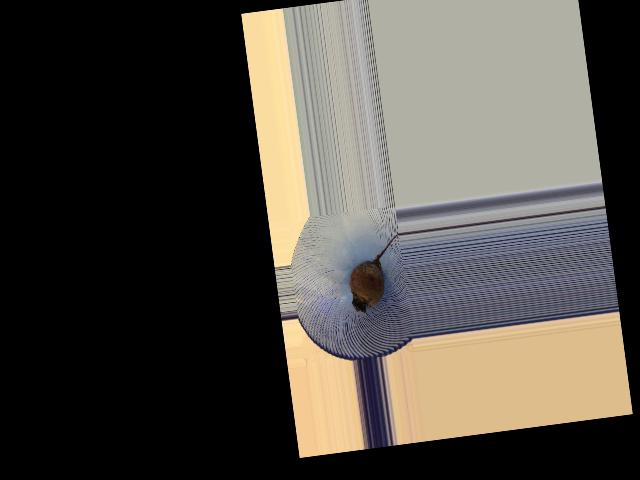beet: (344, 233, 409, 314)
